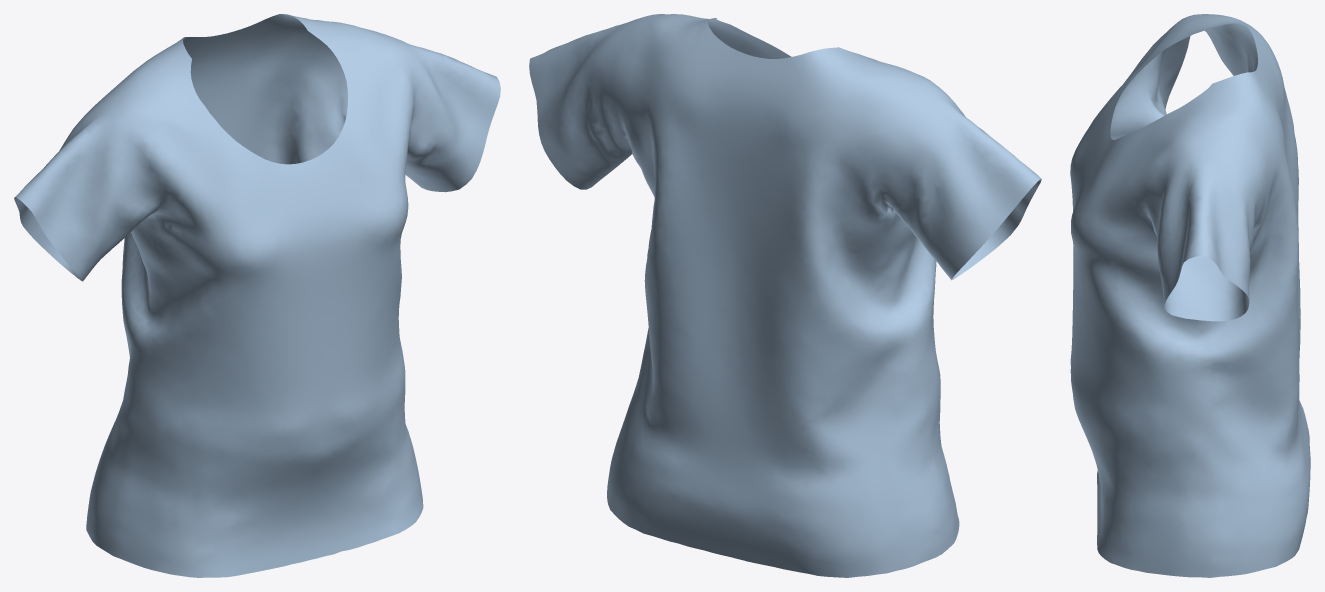
Rendered from tee_L.glb.
3 views of the same model, side by side, from view 1: azimuth 30°, elevation 25°; view 2: azimuth 150°, elevation 25°; view 3: azimuth 270°, elevation 25° (orthographic). The views are drawn at different scales.
Visible parts, largest first — view 1: geometry_0; view 2: geometry_0; view 3: geometry_0.
Boxes of the visible parts, left/top/right/bottom form: geometry_0: left=14, top=14, right=500, bottom=577; geometry_0: left=529, top=14, right=1041, bottom=577; geometry_0: left=1070, top=14, right=1310, bottom=577.
Size of the model in its own units: 0.6492 by 0.615 by 0.2878.
